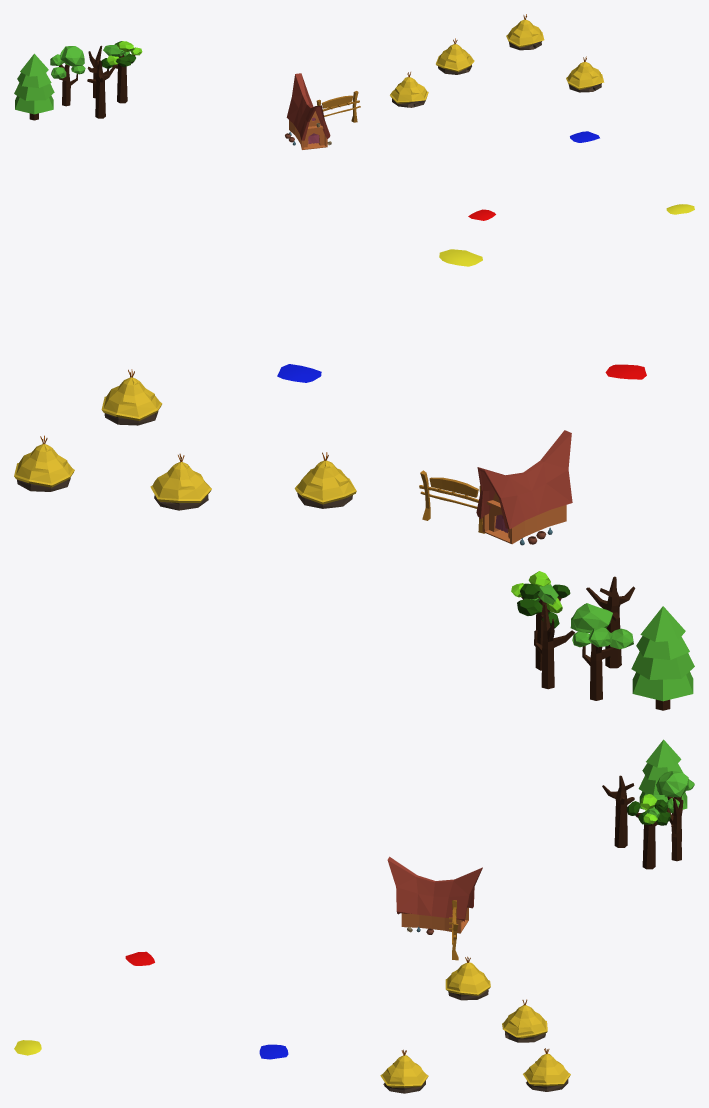
The model's file is TTTT.fbx.
3 views of the same model, one above another, from view 1: azimuth 30°, elevation 25°; view 2: azimuth 150°, elevation 25°; view 3: azimuth 270°, elevation 25° (orthographic). The views are drawn at different scales.
Parts seen in each view (by area): view 1: Box001, Cylinder013, Cylinder019, Cylinder014, Cylinder012, Cylinder011, Cylinder010, Cylinder002, Cylinder018, Box004; view 2: Box001, Cylinder013, Cylinder014, Cylinder019, Cylinder012, Cylinder011, Cylinder002, Cylinder010, Box004, Cylinder017, Cylinder018; view 3: Box001, Cylinder019, Cylinder013, Cylinder002, Cylinder010, Cylinder012, Cylinder011, Cylinder018, Cylinder014, Cylinder017.
Part boxes in pixels (x1,y1,x2,y2): Box001: (286,73,330,149); Cylinder013: (14,53,54,120); Cylinder019: (101,41,142,103); Cylinder014: (50,46,85,106); Cylinder012: (566,56,604,92); Cylinder011: (506,14,544,50); Cylinder010: (436,38,474,74); Cylinder002: (390,72,428,107); Cylinder018: (87,60,115,118); Box004: (316,91,360,122); Box001: (476,430,572,544); Cylinder013: (631,606,694,710); Cylinder014: (570,603,633,700); Cylinder019: (511,571,570,670); Cylinder012: (101,369,162,425); Cylinder011: (14,435,74,491); Cylinder002: (294,452,356,508); Cylinder010: (150,453,211,510); Box004: (419,470,484,533); Cylinder017: (534,603,574,689); Cylinder018: (586,576,635,668); Box001: (387,856,482,933); Cylinder019: (627,794,670,869); Cylinder013: (638,739,687,810); Cylinder002: (445,956,490,1000); Cylinder010: (502,999,547,1042); Cylinder012: (380,1049,428,1093); Cylinder011: (523,1048,570,1091); Cylinder018: (602,775,634,847); Cylinder014: (656,771,694,841); Cylinder017: (666,798,683,861).
Size of what is drawn, in the model's own units: 90.01 by 11.57 by 89.59.
